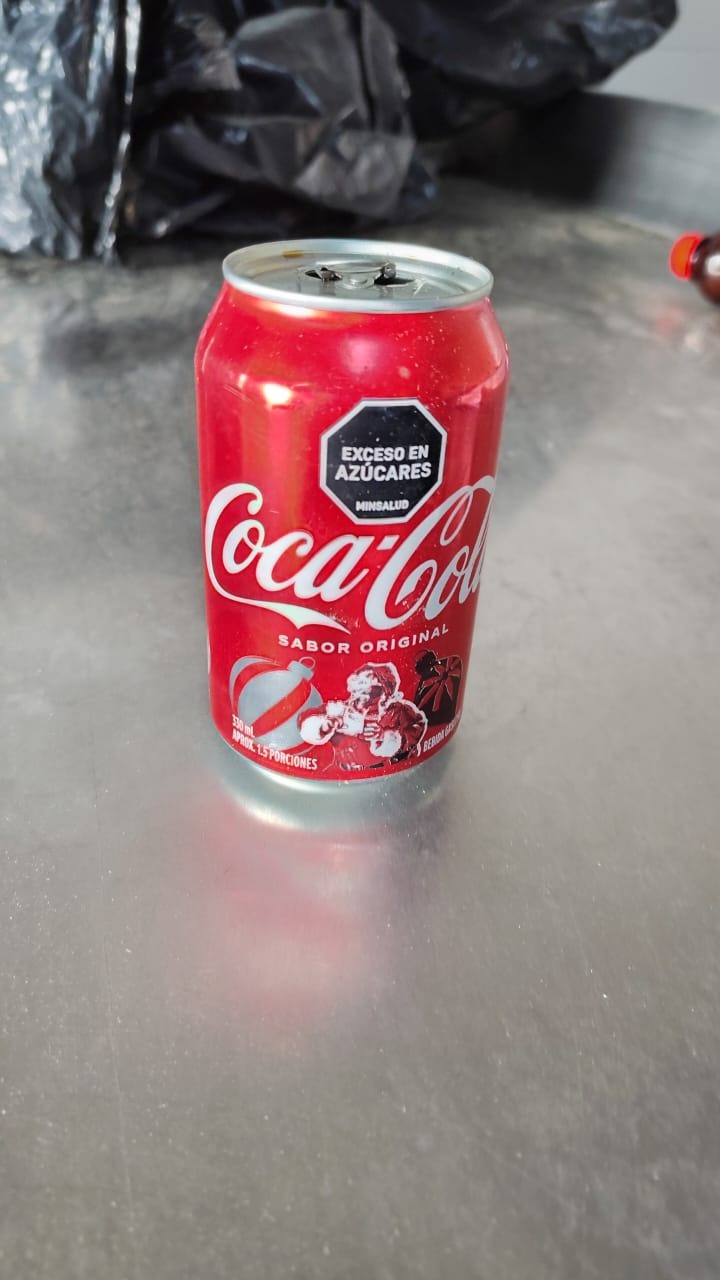Metal: (191, 237, 507, 796)
